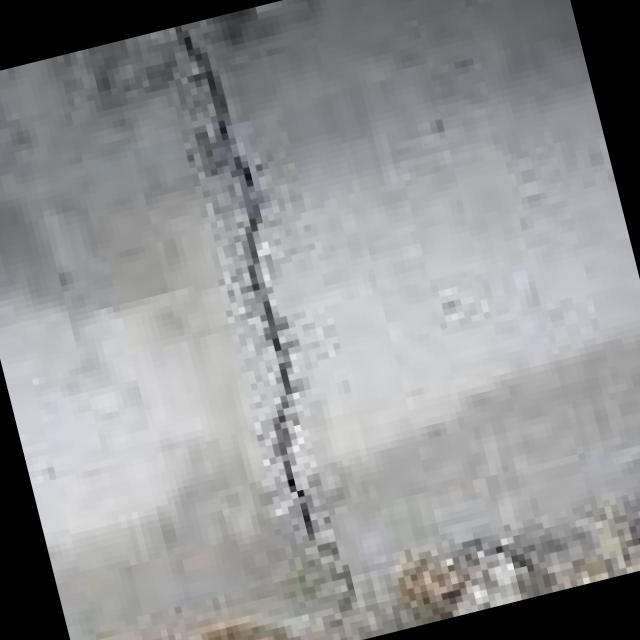crack: (174, 12, 380, 622)
